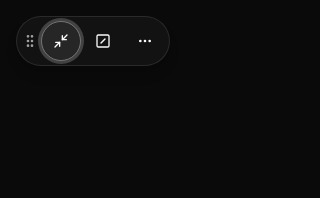
Scenario: the app menu the pill carries › opens the pane's own actions, which theater took the sidebar away from
Click the button named "Terminal actions" at (145, 41), box [125,21,165,61]
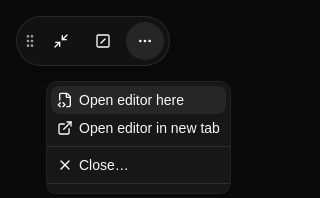
Check: the menu is shown, box [47,82,230,193]
